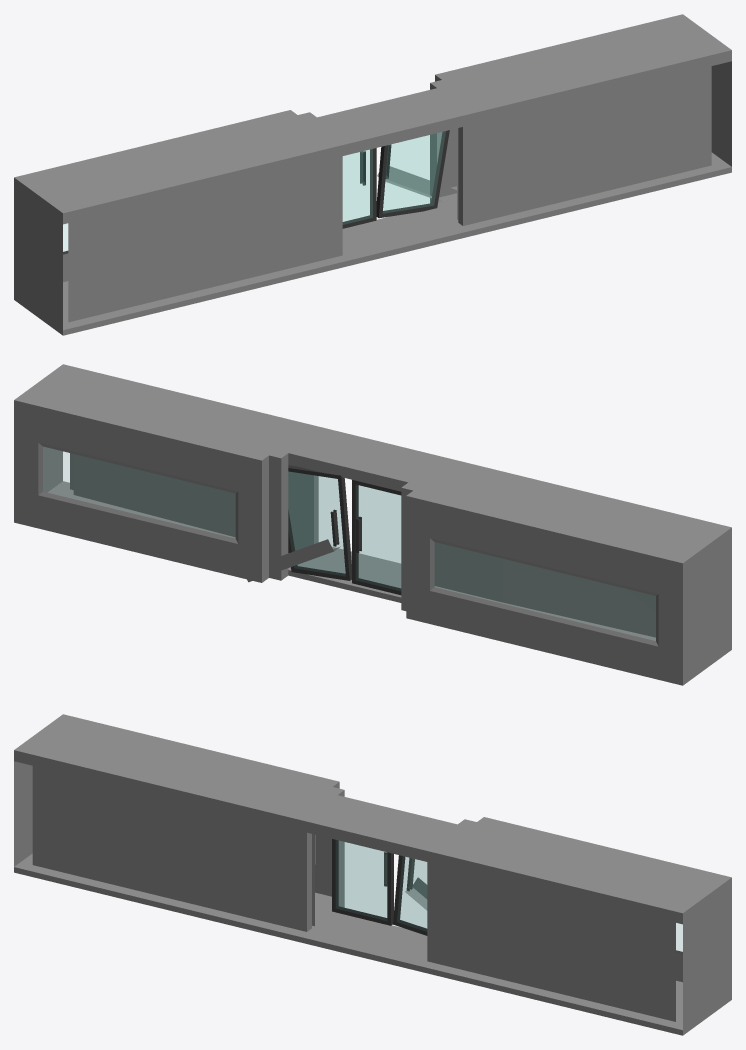
Rendered from school@in_open.FBX.
3 renders of one model, top to bottom at view 1: azimuth 30°, elevation 25°; view 2: azimuth 150°, elevation 25°; view 3: azimuth 330°, elevation 25°, orthographic.
Parts seen in each view (by area): view 1: Box001, Object003; view 2: Box001, Object003; view 3: Box001, Object003.
Part boxes in pixels (x1=…): Box001: x1=14, y1=14, x2=731, y2=335; Object003: x1=342, y1=148, x2=376, y2=228; Box001: x1=14, y1=364, x2=731, y2=685; Object003: x1=352, y1=480, x2=401, y2=595; Box001: x1=14, y1=714, x2=731, y2=1035; Object003: x1=332, y1=839, x2=393, y2=925.
Size of the model in its own units: 113 by 21.32 by 14.37.
